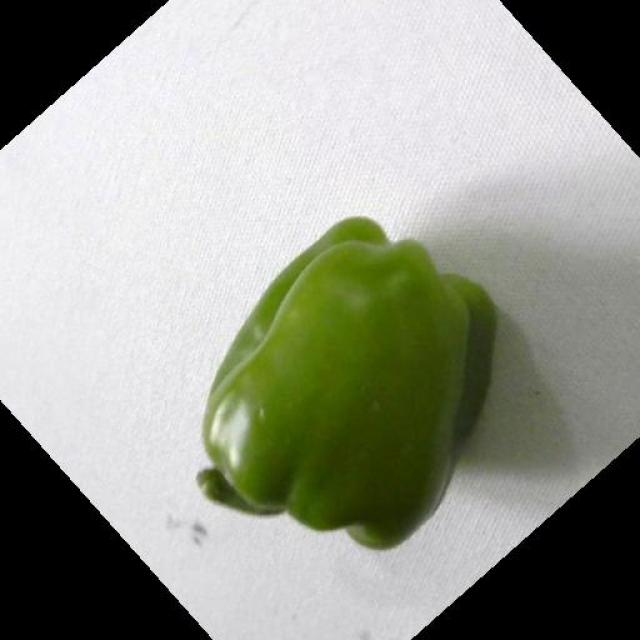Fresh_Capsicum: (234, 226, 488, 541)
